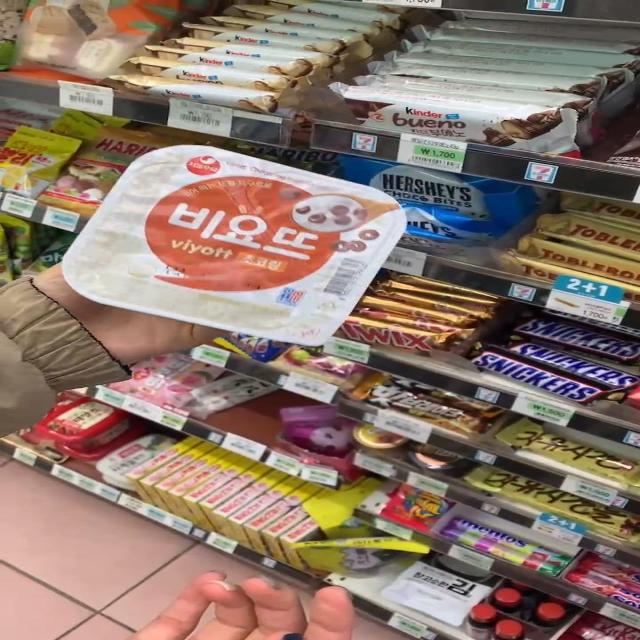bYott: (92, 163, 382, 331)
